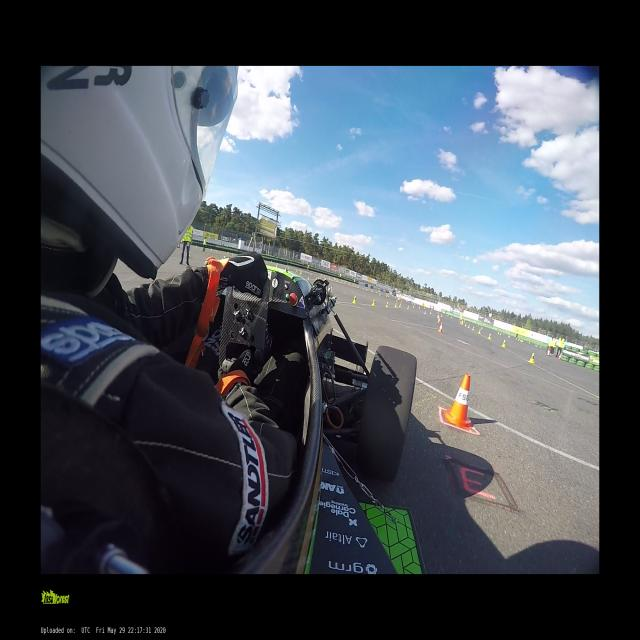orange_cone: (445, 374, 472, 429), (438, 324, 443, 333), (437, 317, 440, 324)
yellow_cone: (527, 353, 537, 363), (352, 295, 356, 305), (501, 341, 506, 347), (487, 333, 491, 340), (507, 334, 511, 339), (394, 303, 397, 308), (478, 329, 481, 334), (372, 299, 374, 306), (386, 302, 388, 308), (436, 313, 439, 317), (429, 310, 432, 314), (472, 326, 474, 331), (468, 325, 470, 329), (407, 306, 409, 310), (424, 311, 426, 315), (450, 316, 452, 320), (413, 305, 415, 309), (498, 332, 500, 336), (447, 314, 448, 318), (441, 314, 442, 318), (462, 320, 463, 324)
